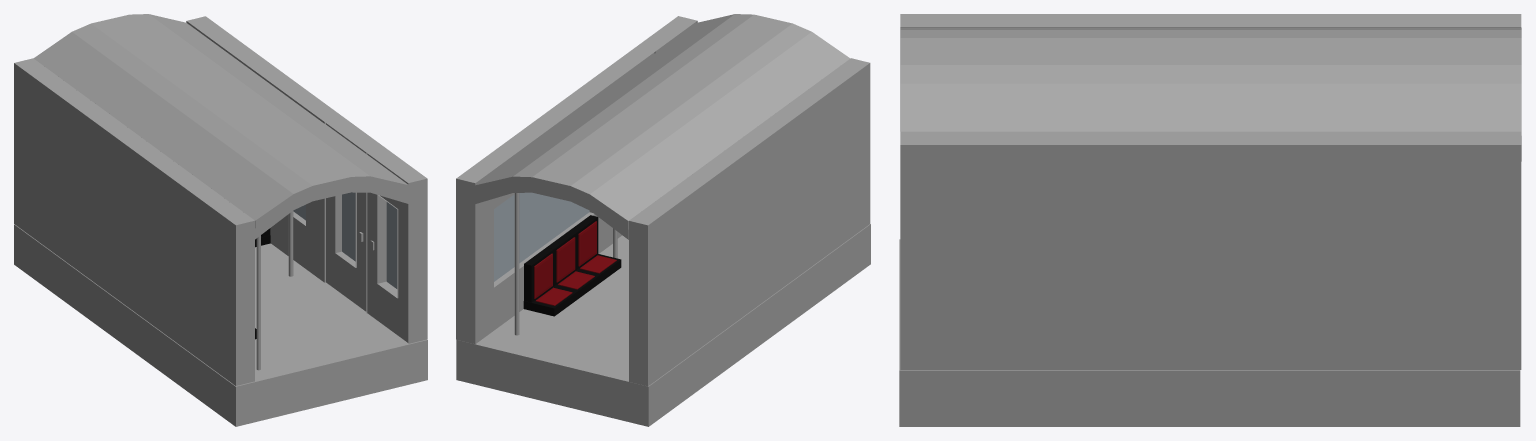
The model's file is subway-model-2-with-material-joined.glb.
3 renders of one model, left to right at view 1: azimuth 30°, elevation 25°; view 2: azimuth 150°, elevation 25°; view 3: azimuth 270°, elevation 25°, orthographic. The views are drawn at different scales.
Parts seen in each view (by area): view 1: Cube.003; view 2: Cube.003; view 3: Cube.003.
Boxes of the visible parts, x1,y1,x2,y2 form: Cube.003: [14, 14, 427, 426]; Cube.003: [456, 14, 870, 426]; Cube.003: [899, 14, 1521, 426].
Size of the model in its own units: 2.5 by 2.76 by 5.01.
